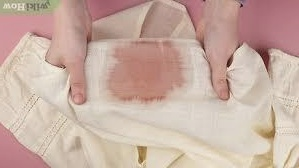wine: (104, 41, 180, 102)
